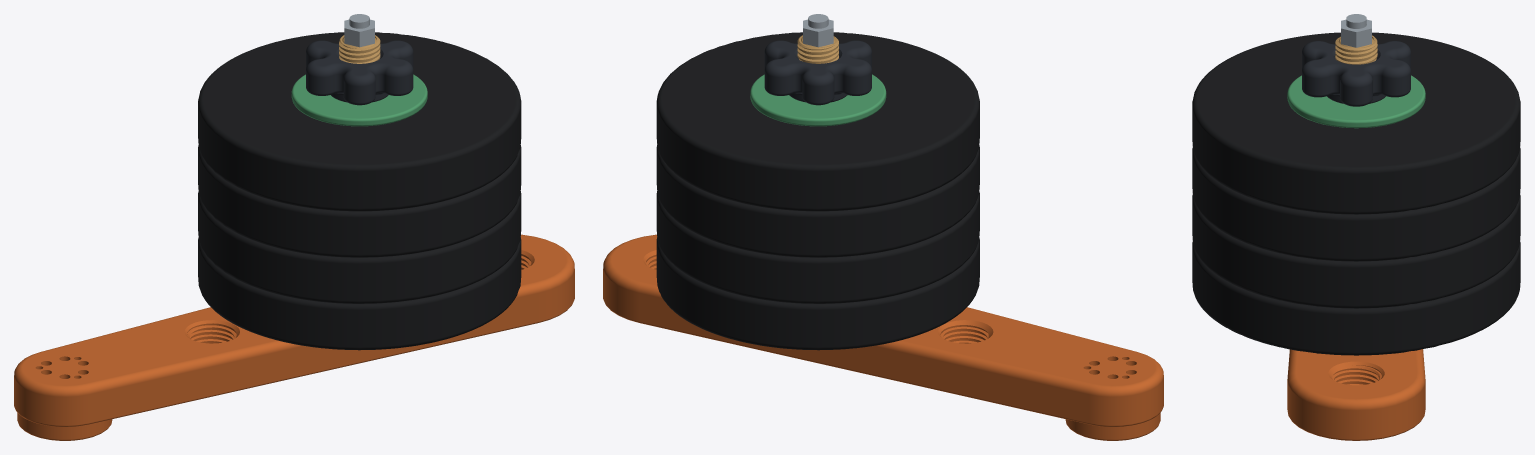
Rendered from load_arm_assembly.glb.
3 renders of one model, left to right at view 1: azimuth 30°, elevation 25°; view 2: azimuth 150°, elevation 25°; view 3: azimuth 270°, elevation 25°, orthographic.
Visible parts, largest first — view 1: weight_plates/weight_plate (×4), load_arm, star_knob, clamp_plate, load_pin, m12_hardware/m12_nut; view 2: weight_plates/weight_plate (×4), load_arm, star_knob, clamp_plate, load_pin, m12_hardware/m12_nut; view 3: weight_plates/weight_plate (×4), load_arm, star_knob, clamp_plate, load_pin, m12_hardware/m12_nut.
Boxes of the visible parts, x1,y1,x2,y2 form: weight_plates/weight_plate (×4): [198, 32, 521, 350]; load_arm: [14, 234, 574, 440]; star_knob: [306, 40, 413, 105]; clamp_plate: [291, 74, 427, 126]; load_pin: [339, 35, 380, 63]; m12_hardware/m12_nut: [344, 19, 374, 47]; weight_plates/weight_plate (×4): [656, 32, 979, 350]; load_arm: [603, 234, 1163, 440]; star_knob: [764, 40, 871, 105]; clamp_plate: [750, 74, 886, 126]; load_pin: [797, 35, 838, 63]; m12_hardware/m12_nut: [803, 19, 833, 47]; weight_plates/weight_plate (×4): [1192, 32, 1520, 355]; load_arm: [1287, 349, 1425, 440]; star_knob: [1302, 41, 1410, 106]; clamp_plate: [1287, 75, 1425, 128]; load_pin: [1335, 35, 1377, 64]; m12_hardware/m12_nut: [1341, 19, 1371, 47].
Size of the model in its own units: 0.37 by 0.219 by 0.1899.
